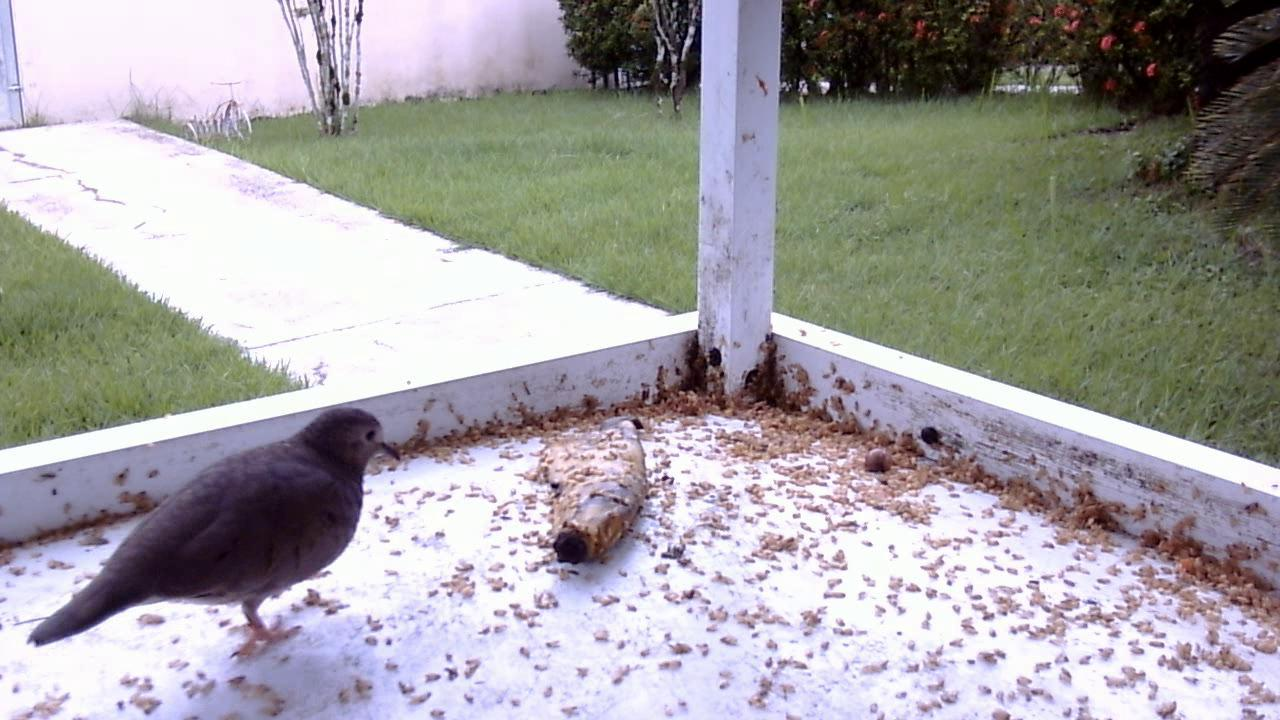rolinha: (18, 393, 409, 672)
